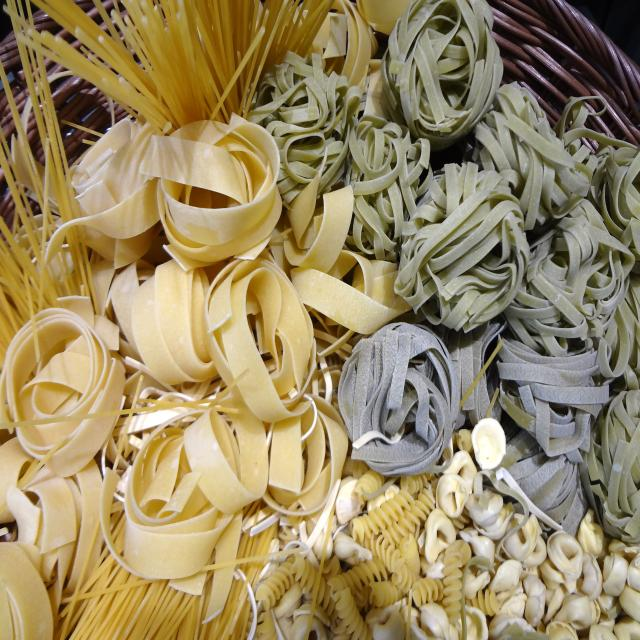pasta: (12, 117, 360, 574)
